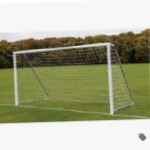goals: (10, 41, 136, 118)
